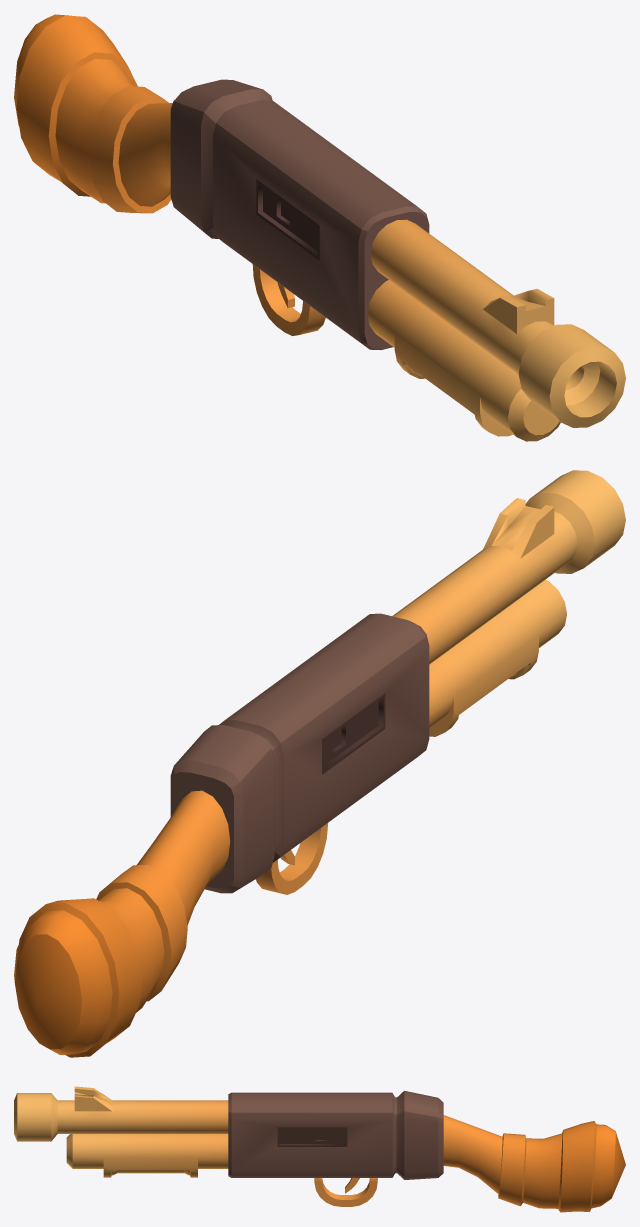
Rendered from Shotgun01.fbx.
3 renders of one model, top to bottom at view 1: azimuth 30°, elevation 25°; view 2: azimuth 150°, elevation 25°; view 3: azimuth 270°, elevation 25°, orthographic. The views are drawn at different scales.
Visible parts, largest first — view 1: Shotgun01; view 2: Shotgun01; view 3: Shotgun01.
Part boxes in pixels (left/top/right/bottom): Shotgun01: left=14, top=14, right=625, bottom=441; Shotgun01: left=14, top=470, right=625, bottom=1057; Shotgun01: left=14, top=1086, right=625, bottom=1212.
Size of the model in its own units: 0.082 by 0.7637 by 0.1641.
